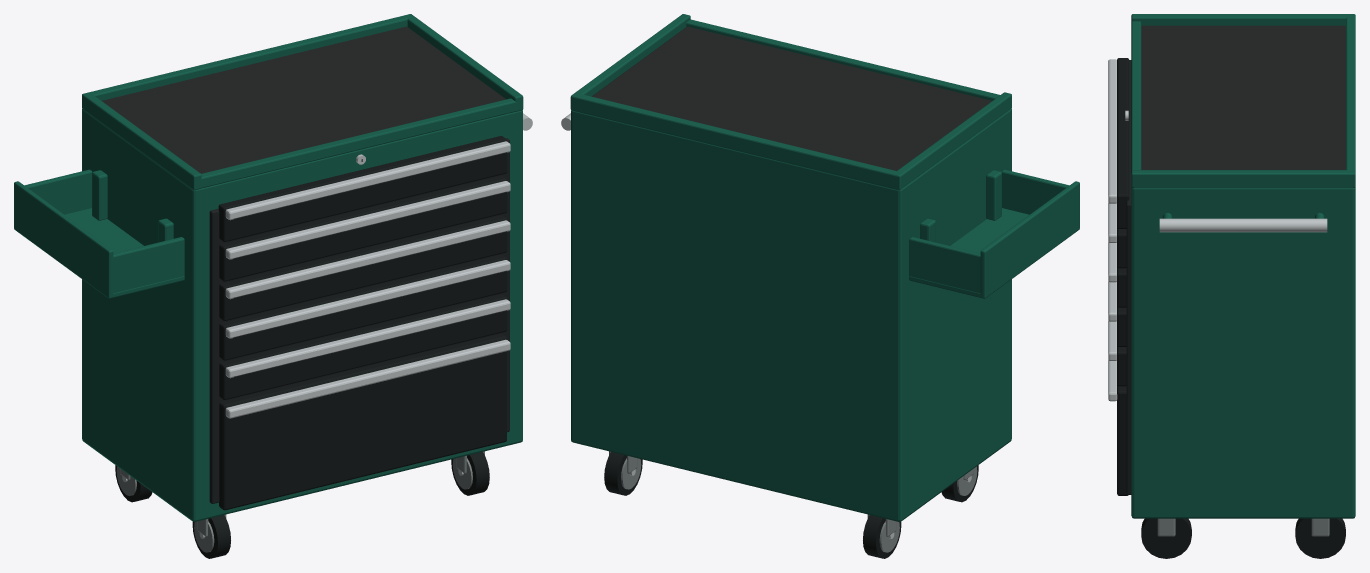
3 renders of one model, left to right at view 1: azimuth 30°, elevation 25°; view 2: azimuth 150°, elevation 25°; view 3: azimuth 270°, elevation 25°, orthographic.
Parts seen in each view (by area): view 1: Green enclosed cabinet body, Shallow black drawer 01, Rubber top work mat, Aluminium full width pull 01, Black recessed drawer surround, Caster grey outer hub; view 2: Green enclosed cabinet body, Rubber top work mat, Shallow black drawer 01, Caster grey outer hub; view 3: Green enclosed cabinet body, Rubber top work mat, Shallow black drawer 01, Aluminium full width pull 01, Black recessed drawer surround, Caster grey outer hub.
Part boxes in pixels (x1=…): Green enclosed cabinet body: x1=14, y1=14, x2=523, y2=521; Shallow black drawer 01: x1=115, y1=136, x2=507, y2=558; Rubber top work mat: x1=102, y1=26, x2=505, y2=173; Aluminium full width pull 01: x1=122, y1=113, x2=532, y2=538; Black recessed drawer surround: x1=209, y1=138, x2=509, y2=503; Caster grey outer hub: x1=116, y1=451, x2=484, y2=552; Green enclosed cabinet body: x1=570, y1=14, x2=1079, y2=521; Rubber top work mat: x1=592, y1=26, x2=991, y2=170; Shallow black drawer 01: x1=604, y1=452, x2=978, y2=558; Caster grey outer hub: x1=609, y1=451, x2=977, y2=552; Green enclosed cabinet body: x1=1131, y1=14, x2=1355, y2=518; Rubber top work mat: x1=1141, y1=25, x2=1345, y2=169; Shallow black drawer 01: x1=1117, y1=58, x2=1345, y2=558; Aluminium full width pull 01: x1=1108, y1=59, x2=1327, y2=401; Black recessed drawer surround: x1=1124, y1=60, x2=1131, y2=494; Caster grey outer hub: x1=1157, y1=518, x2=1329, y2=536.
Size of the model in its own units: 1.01 by 0.904 by 0.5075.
